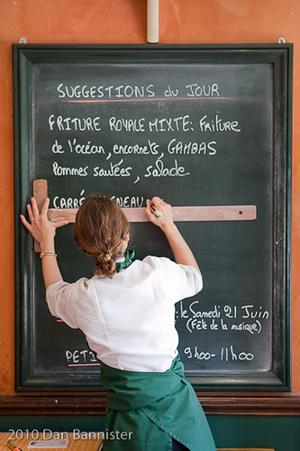person: (23, 192, 217, 448)
